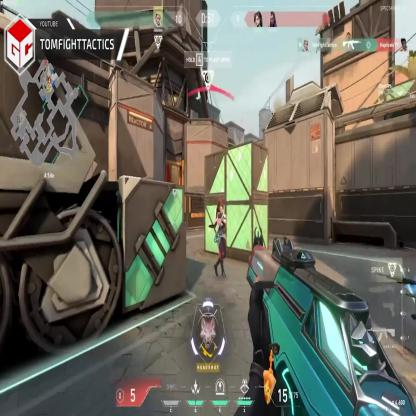enemy: (209, 199, 228, 276)
enemy_head: (218, 201, 224, 214)
